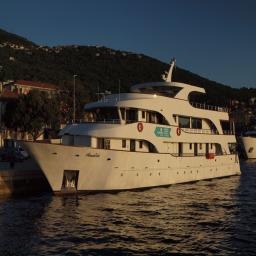cruises: (15, 57, 244, 200)
